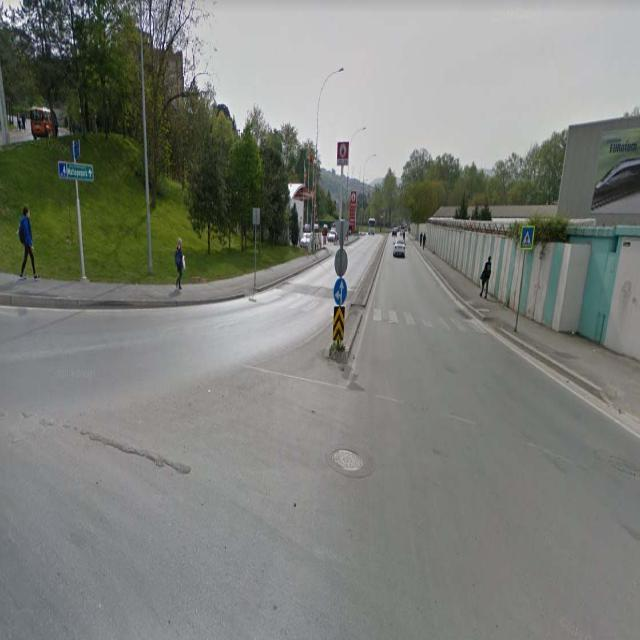ilerisol: (334, 279, 347, 305)
